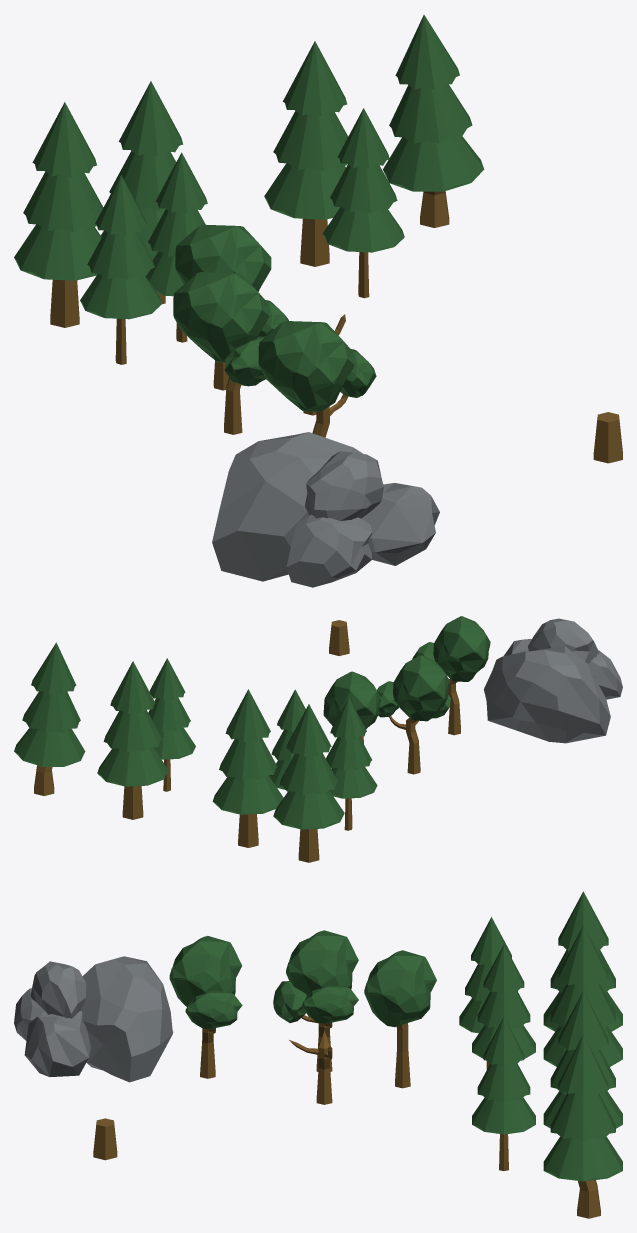
The model's file is LowPolyAssets.fbx.
The picture shows the model from 3 angles, top to bottom: view 1: azimuth 30°, elevation 25°; view 2: azimuth 150°, elevation 25°; view 3: azimuth 270°, elevation 25°; orthographic projection. The views are drawn at different scales.
Visible parts, largest first — view 1: LargeRock, Pinetree12, Pinetree2W1Branch, Pinetree2W2Branch1, SimpleTrew2Branch, SimpleTreeOneBranch, Pinetree11, Pinetree1W1branch, Pinetree2W, Smallrock3, Simpletree, PinetreeOne (+3 smaller); view 2: LargeRock, Pinetree2W1Branch, Pinetree2W2Branch1, Pinetree2W, Pinetree12, SimpleTrew2Branch, SimpleTreeOneBranch, Pinetree1W1branch, Pinetree11, Simpletree, Smallrock1, PinetreeOne (+2 smaller); view 3: LargeRock, Pinetree12, SimpleTrew2Branch, SimpleTreeOneBranch, Pinetree11, Simpletree, Pinetree2W, PinetreeOne, Smallrock2, Pinetree2W2Branch1, Pinetree2W1Branch, Smallrock1 (+4 smaller).
Part boxes in pixels (left/top/right/bottom): LargeRock: left=212, top=432, right=362, bottom=581; Pinetree12: left=383, top=15, right=484, bottom=227; Pinetree2W1Branch: left=14, top=102, right=103, bottom=327; Pinetree2W2Branch1: left=264, top=41, right=348, bottom=266; SimpleTrew2Branch: left=173, top=272, right=288, bottom=434; SimpleTreeOneBranch: left=258, top=321, right=376, bottom=437; Pinetree11: left=322, top=108, right=404, bottom=298; Pinetree1W1branch: left=80, top=175, right=161, bottom=364; Pinetree2W: left=101, top=81, right=183, bottom=304; Smallrock3: left=286, top=514, right=372, bottom=587; Simpletree: left=175, top=224, right=271, bottom=390; PinetreeOne: left=145, top=152, right=207, bottom=342; LargeRock: left=484, top=646, right=610, bottom=743; Pinetree2W1Branch: left=273, top=704, right=344, bottom=862; Pinetree2W2Branch1: left=97, top=661, right=168, bottom=819; Pinetree2W: left=212, top=689, right=283, bottom=847; Pinetree12: left=14, top=642, right=85, bottom=795; SimpleTrew2Branch: left=377, top=655, right=451, bottom=774; SimpleTreeOneBranch: left=412, top=616, right=490, bottom=735; Pinetree1W1branch: left=326, top=697, right=377, bottom=830; Pinetree11: left=148, top=658, right=195, bottom=791; Simpletree: left=323, top=671, right=380, bottom=729; Smallrock1: left=528, top=618, right=598, bottom=663; PinetreeOne: left=269, top=689, right=305, bottom=789; LargeRock: left=81, top=956, right=173, bottom=1082; Pinetree12: left=543, top=1034, right=622, bottom=1218; SimpleTrew2Branch: left=273, top=930, right=358, bottom=1071; SimpleTreeOneBranch: left=169, top=936, right=242, bottom=1078; Pinetree11: left=472, top=1017, right=535, bottom=1170; Simpletree: left=364, top=950, right=436, bottom=1088; Pinetree2W: left=543, top=925, right=622, bottom=1066; PinetreeOne: left=472, top=944, right=535, bottom=1058; Smallrock2: left=24, top=1010, right=90, bottom=1076; Pinetree2W2Branch1: left=543, top=991, right=622, bottom=1128; Pinetree2W1Branch: left=543, top=891, right=622, bottom=1031; Smallrock1: left=30, top=961, right=86, bottom=1018.
Size of the model in its own units: 15.56 by 6.48 by 18.18.
